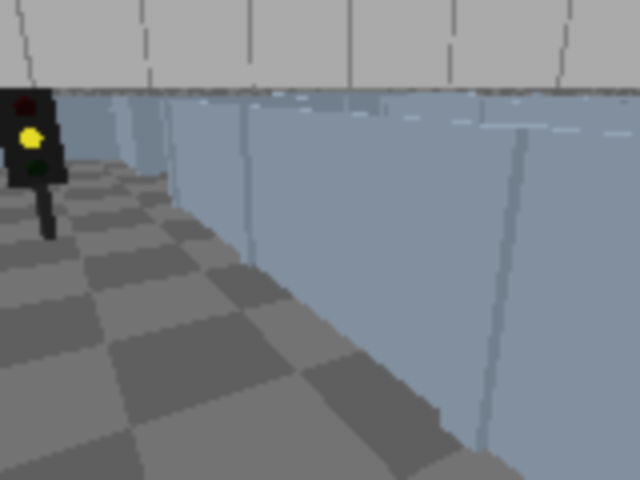traffic_light: (0, 79, 78, 247)
